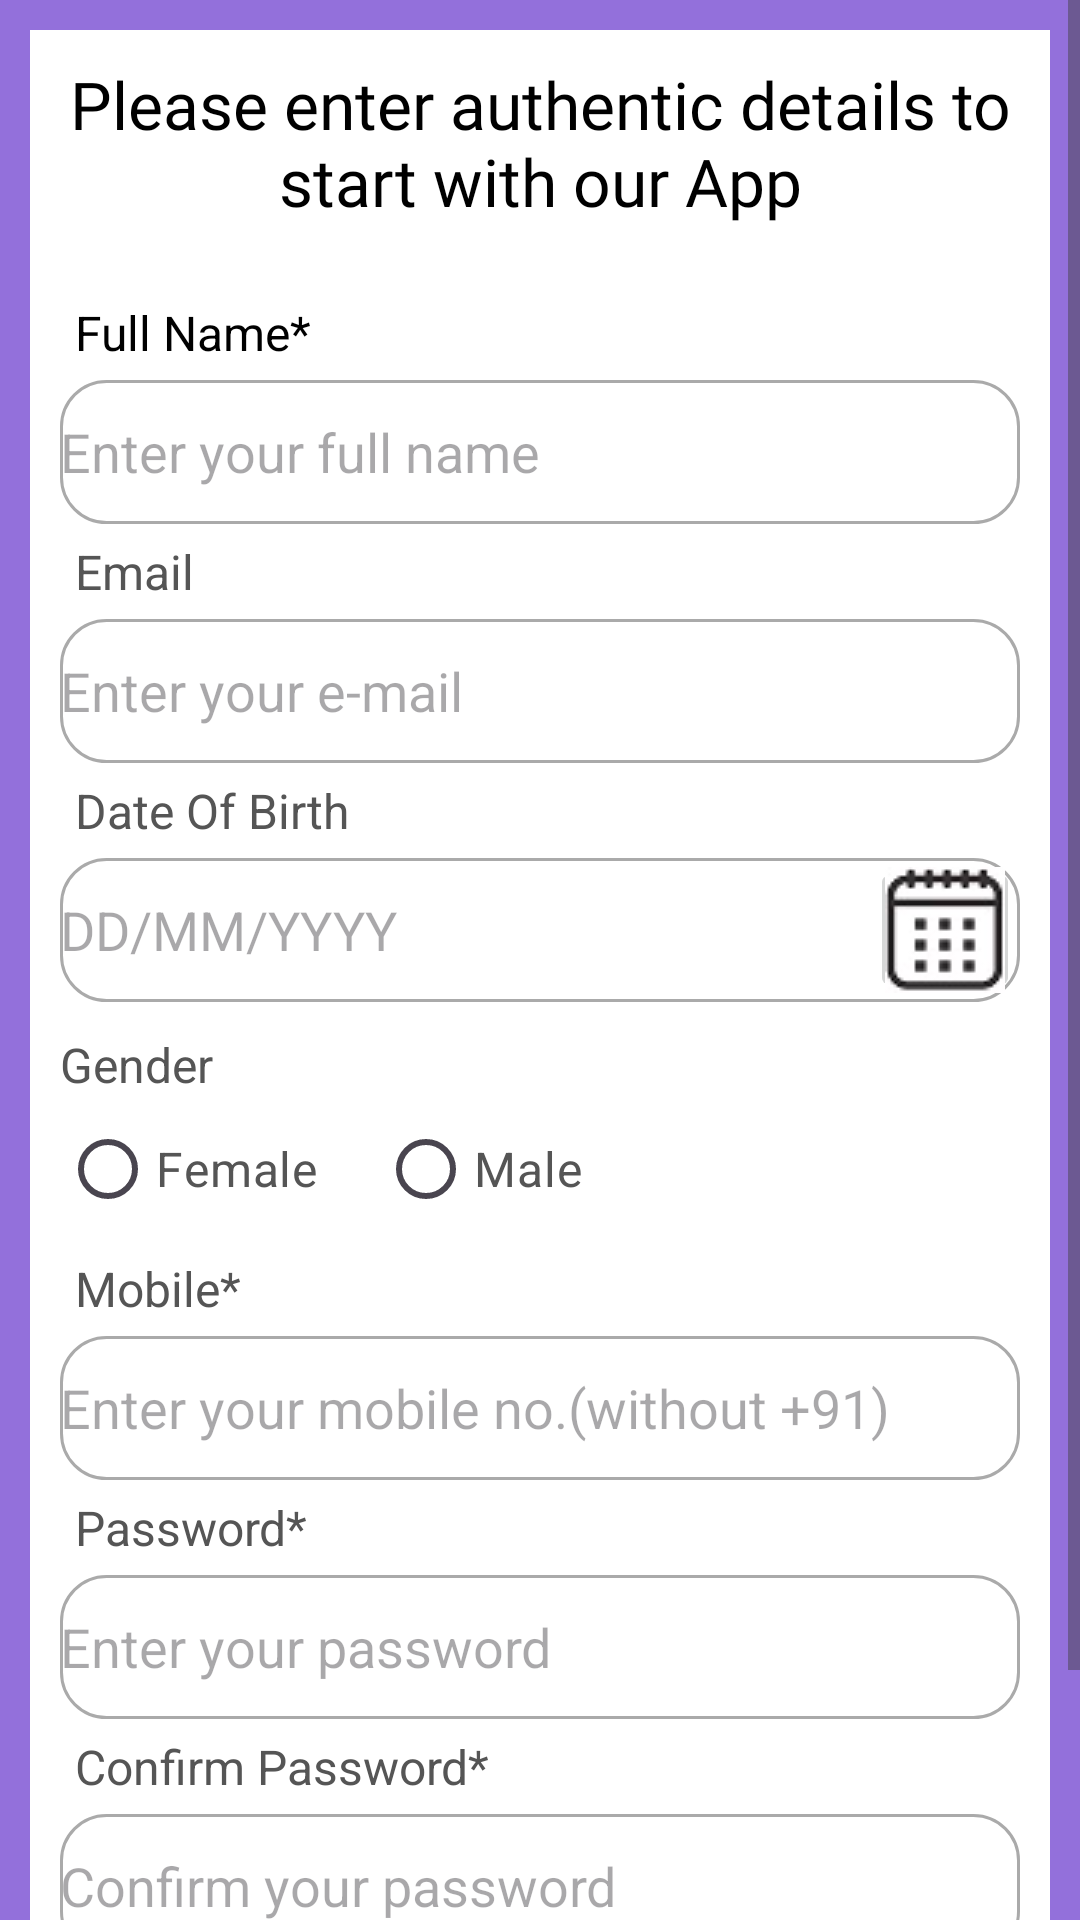

Locate icon controls on the screen. Image size 1080px x 1920px, boxes as (x1, y1, x2, y2).
DOB: (882, 869, 1020, 991)
